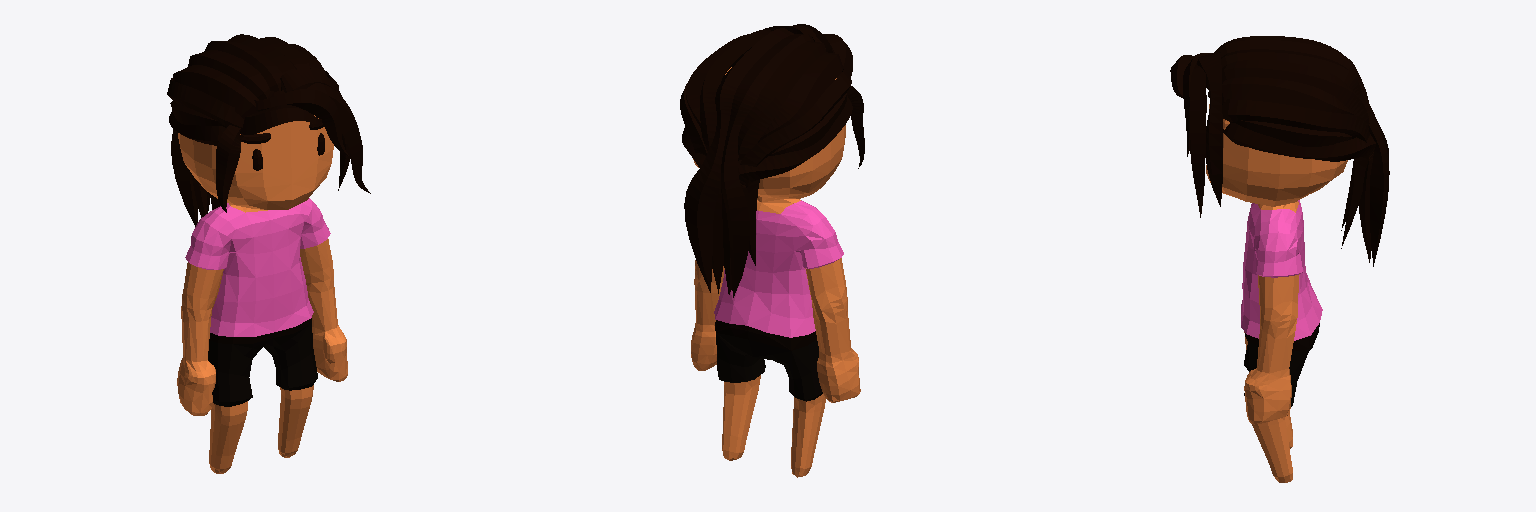
File: Adela.obj
The picture shows the model from 3 angles: view 1: azimuth 30°, elevation 25°; view 2: azimuth 150°, elevation 25°; view 3: azimuth 270°, elevation 25°; orthographic projection.
Parts seen in each view (by area): view 1: Body; view 2: Body; view 3: Body.
Boxes of the visible parts, x1=… form: Body: x1=167, y1=34, x2=370, y2=473; Body: x1=680, y1=24, x2=864, y2=477; Body: x1=1170, y1=36, x2=1389, y2=482.
Size of the model in its own units: 1.29 by 3.17 by 1.5.